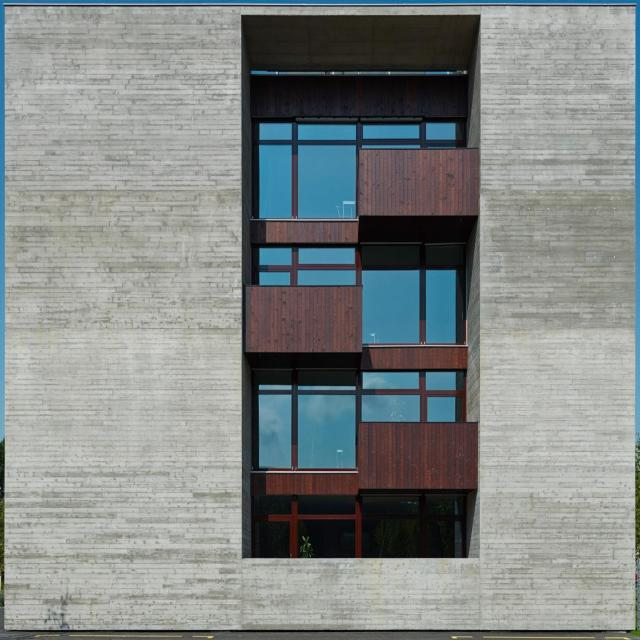wall: (3, 4, 636, 630)
windows: (251, 368, 465, 470), (255, 118, 467, 219), (253, 244, 465, 345), (255, 496, 465, 557)
